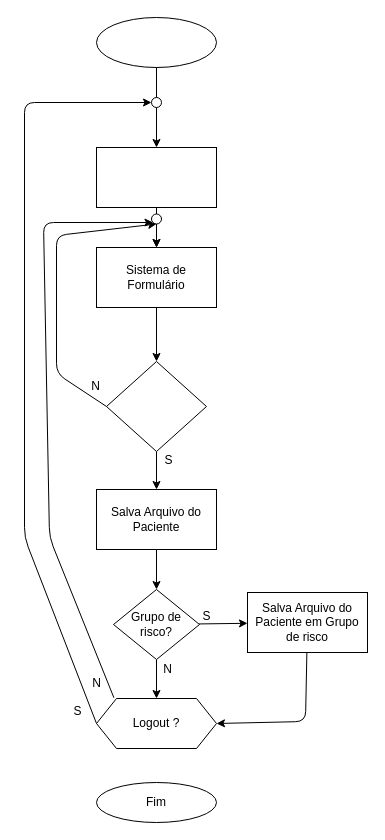
The diagram is 385 pixels wide and 840 high, and some of its shapes have lost their labels. Here are the shapes that lost their labels. From the top down, the centre of each, then its label:
the point at 156,42: Início
the point at 156,177: Sistema de Login
the point at 156,406: Confirmação dos dados
